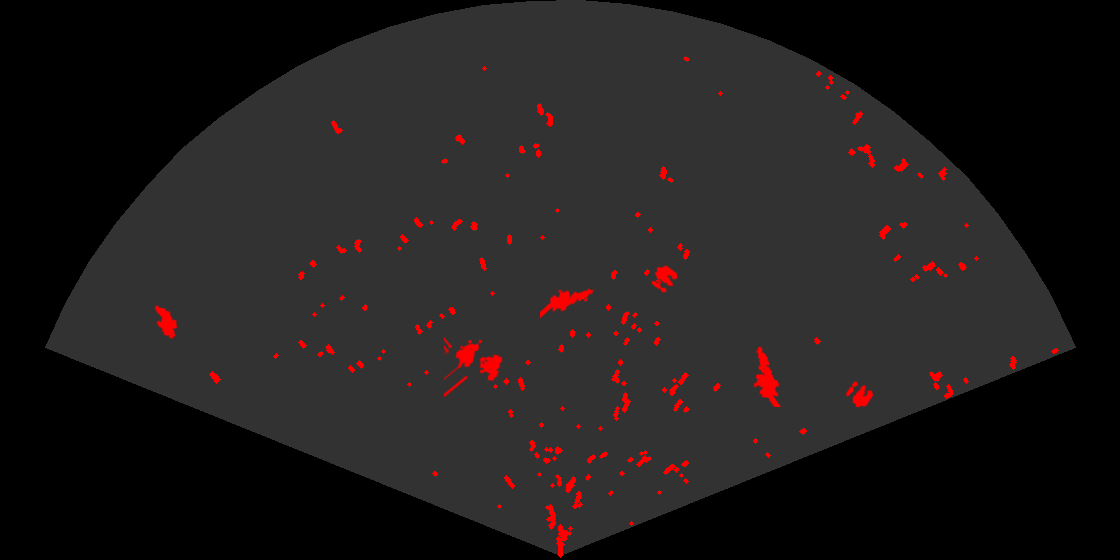AUV: (153, 304, 179, 341)
ball: (844, 380, 875, 409), (650, 264, 679, 294)
cage: (444, 335, 504, 397)
frogman: (752, 345, 782, 407), (540, 287, 595, 320)
